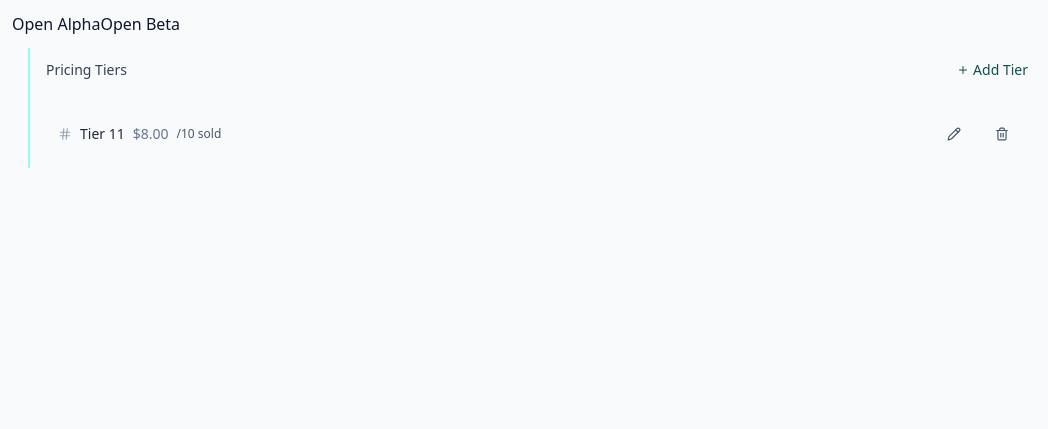
Test: cannot revive the old event form on delayed write error
Click the button named "Edit pricing tier Tier 11" at (954, 134), box top-left (932, 112), bottom-right (976, 156)
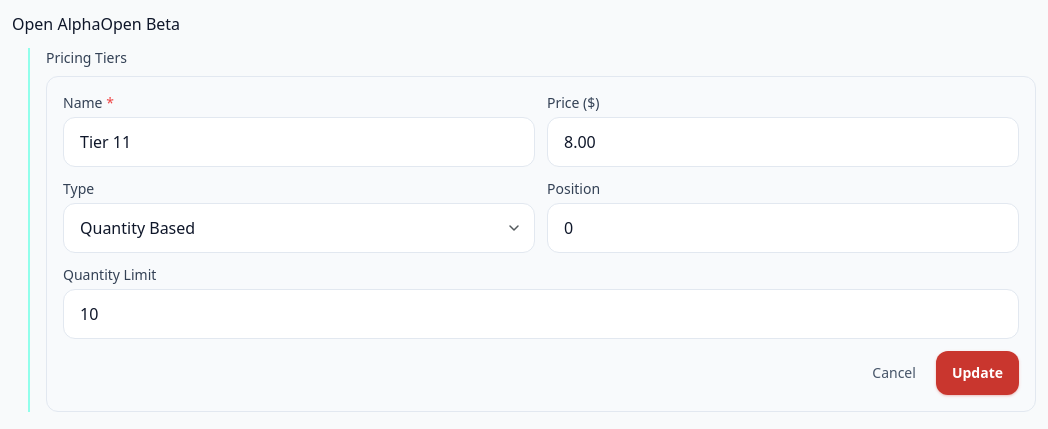
Replace the text in the field labelled "Name *" with "Private tier draft" at (299, 142), box top-left (63, 117), bottom-right (535, 167)
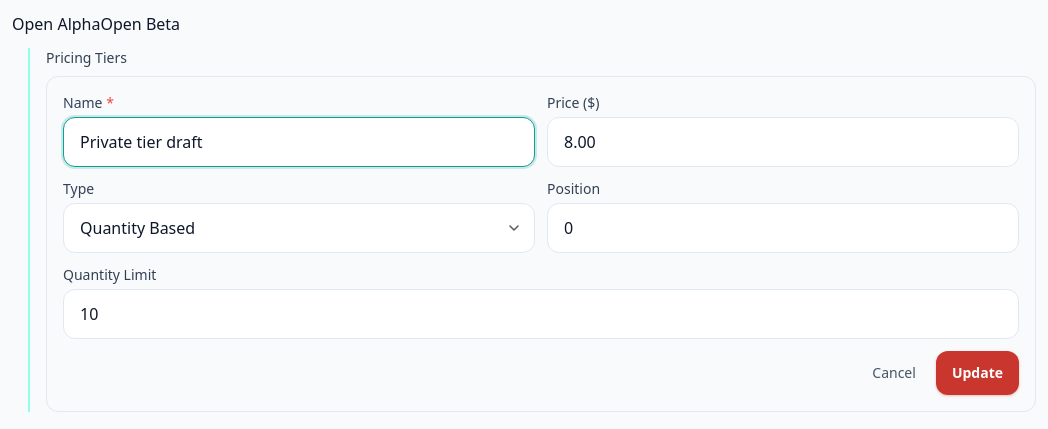
Click the button "Update" at (977, 373), box top-left (936, 351), bottom-right (1019, 395)
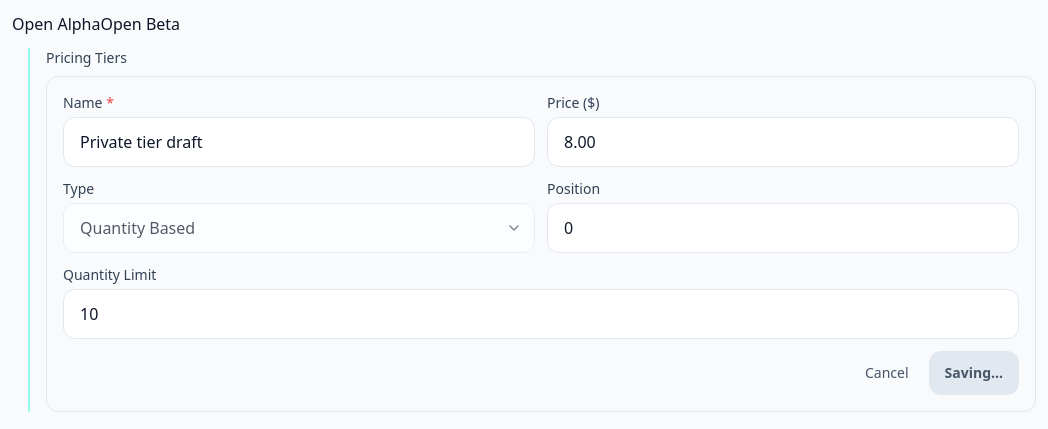
Click the link "Open Beta" at (140, 24), box top-left (100, 13), bottom-right (180, 35)
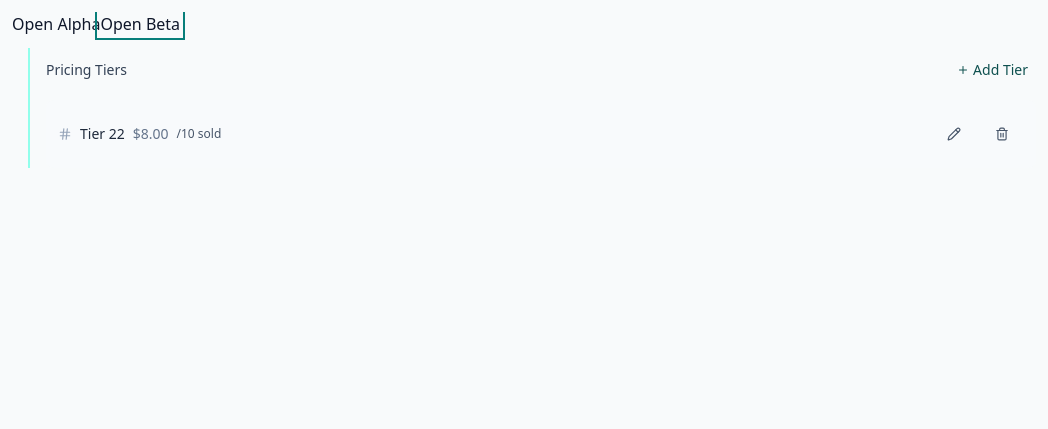
Expected: the text "Tier 22" is shown, top-left (80, 124), bottom-right (125, 144)
